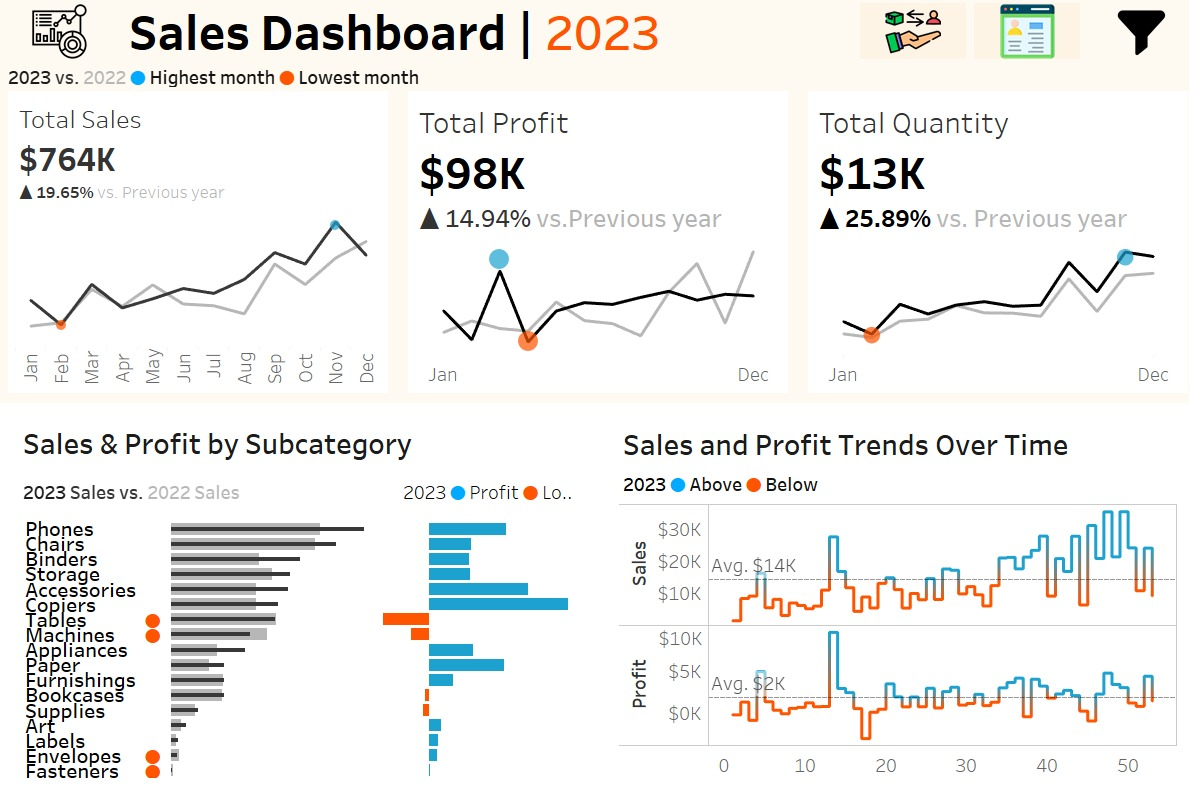

What the dashboard file says about the page in this screenshot:
{"tool":"tableau","page":{"name":"Sales Dashboard","canvas":[1200,800],"ordinal":1},"visuals":[{"type":"image","param":"C:/Users/RANAJOY/OneDrive/Desktop/PROJECT/Sales & Customers Dashboard/Dashboard ","box":[0,0,123,64]},{"type":"text","box":[123,0,735,64]},{"type":"dashboard-object","box":[858,0,114,64]},{"type":"dashboard-object","box":[972,0,114,64]},{"type":"dashboard-object","box":[1086,0,114,64]},{"type":"worksheet","title":"Legend of KPI","mark":"Automatic","box":[0,64,1200,28]},{"type":"blank","box":[1014,76,177,78]},{"type":"worksheet","title":"Sales KPI","mark":"Automatic","rows":["Calculation_934496968828502017"],"cols":["Order Date"],"box":[0,92,400,312]},{"type":"worksheet","title":"Profit KPI ","mark":"Automatic","rows":["Calculation_88383189232459779"],"cols":["Order Date"],"box":[400,92,400,312]},{"type":"worksheet","title":"Quantity KPI","mark":"Automatic","rows":["Calculation_689332264858595332"],"cols":["Order Date"],"box":[800,92,400,312]},{"type":"text","box":[1014,154,177,47]},{"type":"parameter","param":"[Parameters].[Parameter 1]","box":[1014,201,177,60]},{"type":"text","box":[1014,261,177,39]},{"type":"filter","title":"Sales KPI","param":"[federated.0gf0ri71ipqnxc1dln42q0mxr81b].[none:Category:nk]","box":[1014,300,177,70]},{"type":"filter","title":"Sales KPI","param":"[federated.0gf0ri71ipqnxc1dln42q0mxr81b].[none:Sub-Category:nk]","box":[1014,370,177,70]},{"type":"text","box":[17,421,566,46]},{"type":"text","box":[617,421,566,47]},{"type":"blank","box":[1014,440,177,82]},{"type":"worksheet","title":"Legend of Subcategory","mark":"Automatic","box":[17,467,380,51]},{"type":"text","box":[397,467,186,51]},{"type":"text","box":[617,468,566,33]},{"type":"worksheet","title":"Weekly trends","mark":"Automatic","rows":["Calculation_293296971553693696","Calculation_88383189223620608"],"cols":["Order Date"],"box":[617,501,566,282]},{"type":"worksheet","title":"Subcatagory comparison","mark":"Bar","rows":["Sub-Category","Calculation_919297321463767040"],"cols":["Current year sales (copy)_293296971554500609","Calculation_293296971553693696","Calculation_88383189223620608"],"box":[17,518,566,264.9]},{"type":"text","box":[1014,522,177,32]},{"type":"filter","title":"Sales KPI","param":"[federated.0gf0ri71ipqnxc1dln42q0mxr81b].[none:Region:nk]","box":[1014,554,177,70]},{"type":"filter","title":"Sales KPI","param":"[federated.0gf0ri71ipqnxc1dln42q0mxr81b].[none:State:nk]","box":[1014,624,177,70]},{"type":"filter","title":"Sales KPI","param":"[federated.0gf0ri71ipqnxc1dln42q0mxr81b].[none:City:nk]","box":[1014,694,177,70]}]}

Visuals, with their boxes in screenshot pixels (x1, y1, x2, y2), scaled from the page's 1200x800 canvas onto the 1189x792 screenshot:
image: 0/0/122/63
text: 122/0/850/63
dashboard-object: 850/0/963/63
dashboard-object: 963/0/1076/63
dashboard-object: 1076/0/1188/63
"Legend of KPI" worksheet: 0/63/1188/91
blank: 1005/75/1180/152
"Sales KPI" worksheet: 0/91/396/400
"Profit KPI " worksheet: 396/91/793/400
"Quantity KPI" worksheet: 793/91/1188/400
text: 1005/152/1180/199
parameter: 1005/199/1180/258
text: 1005/258/1180/297
"Sales KPI" filter: 1005/297/1180/366
"Sales KPI" filter: 1005/366/1180/436
text: 17/417/578/462
text: 611/417/1172/463
blank: 1005/436/1180/517
"Legend of Subcategory" worksheet: 17/462/393/513
text: 393/462/578/513
text: 611/463/1172/496
"Weekly trends" worksheet: 611/496/1172/775
"Subcatagory comparison" worksheet (Bar marks): 17/513/578/775
text: 1005/517/1180/548
"Sales KPI" filter: 1005/548/1180/618
"Sales KPI" filter: 1005/618/1180/687
"Sales KPI" filter: 1005/687/1180/756
